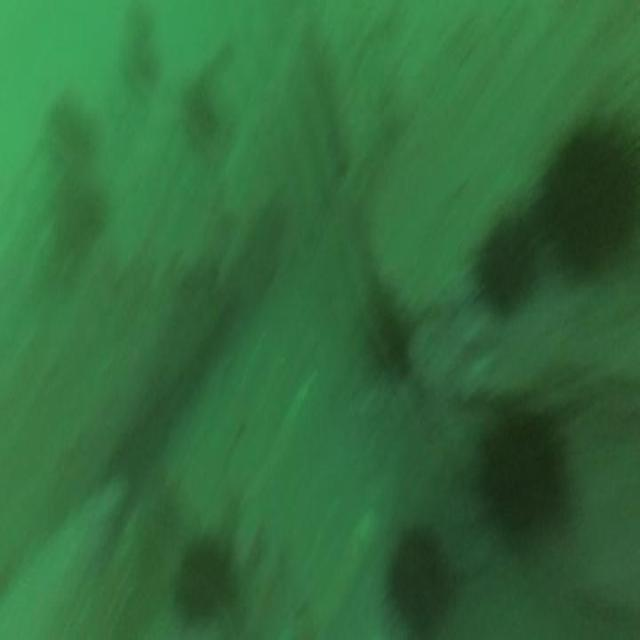echinus: (515, 91, 640, 297), (460, 383, 580, 564), (450, 196, 540, 327), (378, 505, 464, 640), (168, 522, 244, 636), (353, 276, 422, 391)
